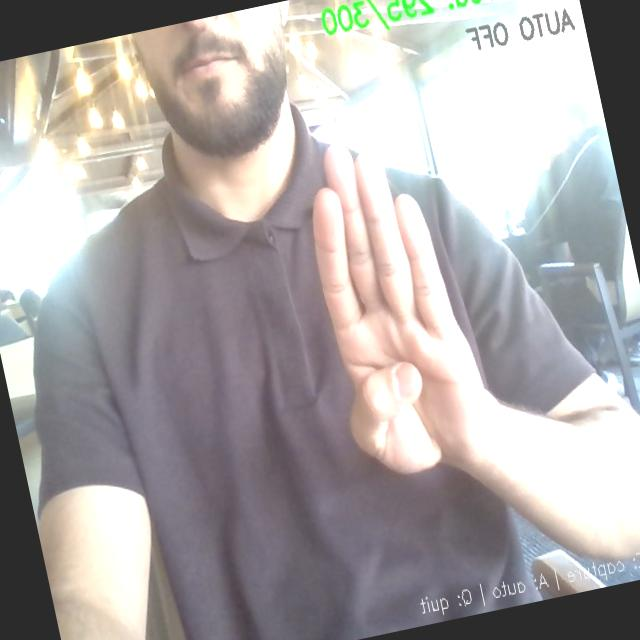Hand: (313, 145, 489, 473)
